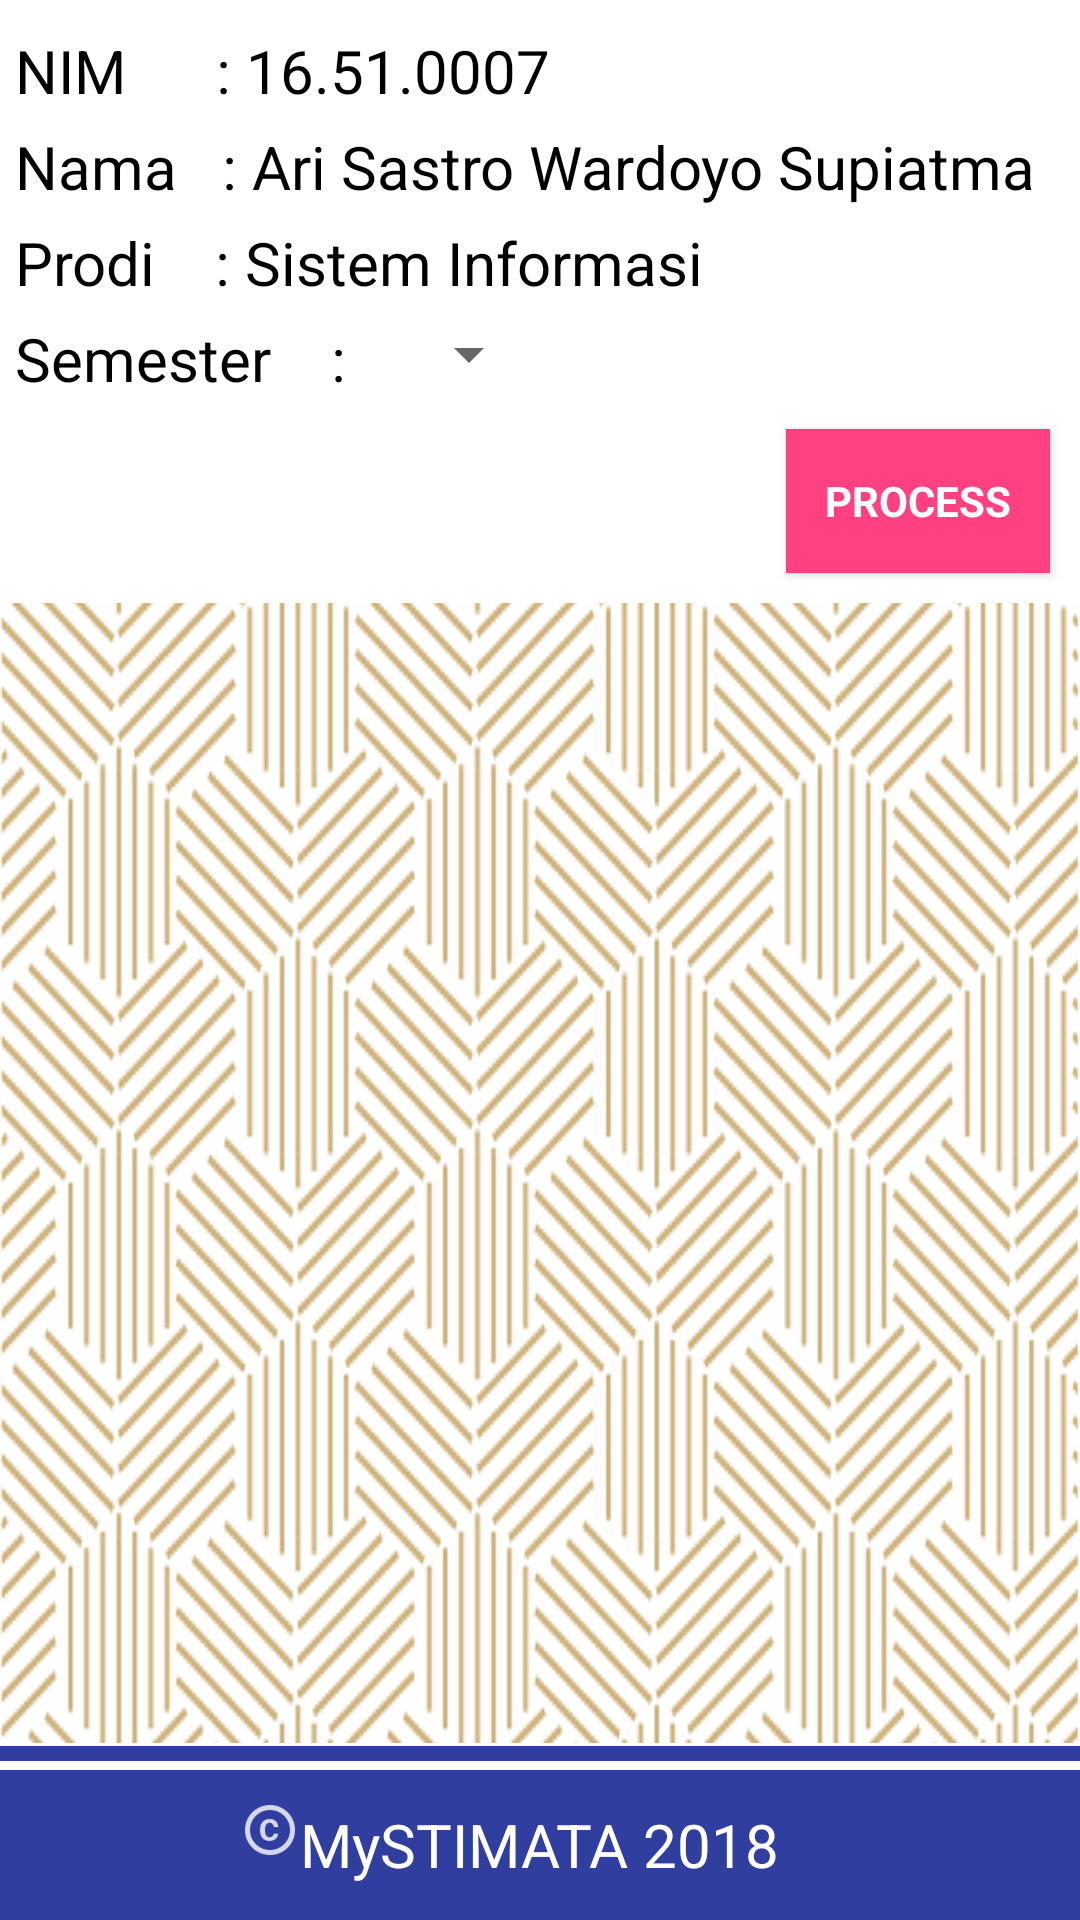

Icons on this 1080 × 1920 Android screen, each with the point to tap as point (x, y):
copyright: point (270, 1830)
